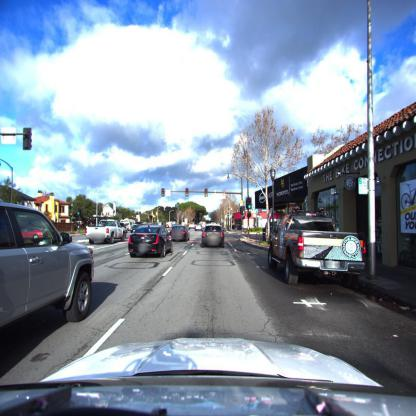car: (0, 194, 95, 393), (128, 226, 172, 259), (86, 218, 125, 246), (201, 225, 224, 247), (170, 225, 190, 243), (194, 222, 202, 232)
traffic light: (24, 127, 34, 150), (245, 196, 253, 210), (186, 188, 190, 198), (184, 188, 188, 198), (204, 189, 208, 197), (161, 189, 164, 197)
truck: (266, 212, 365, 288)
